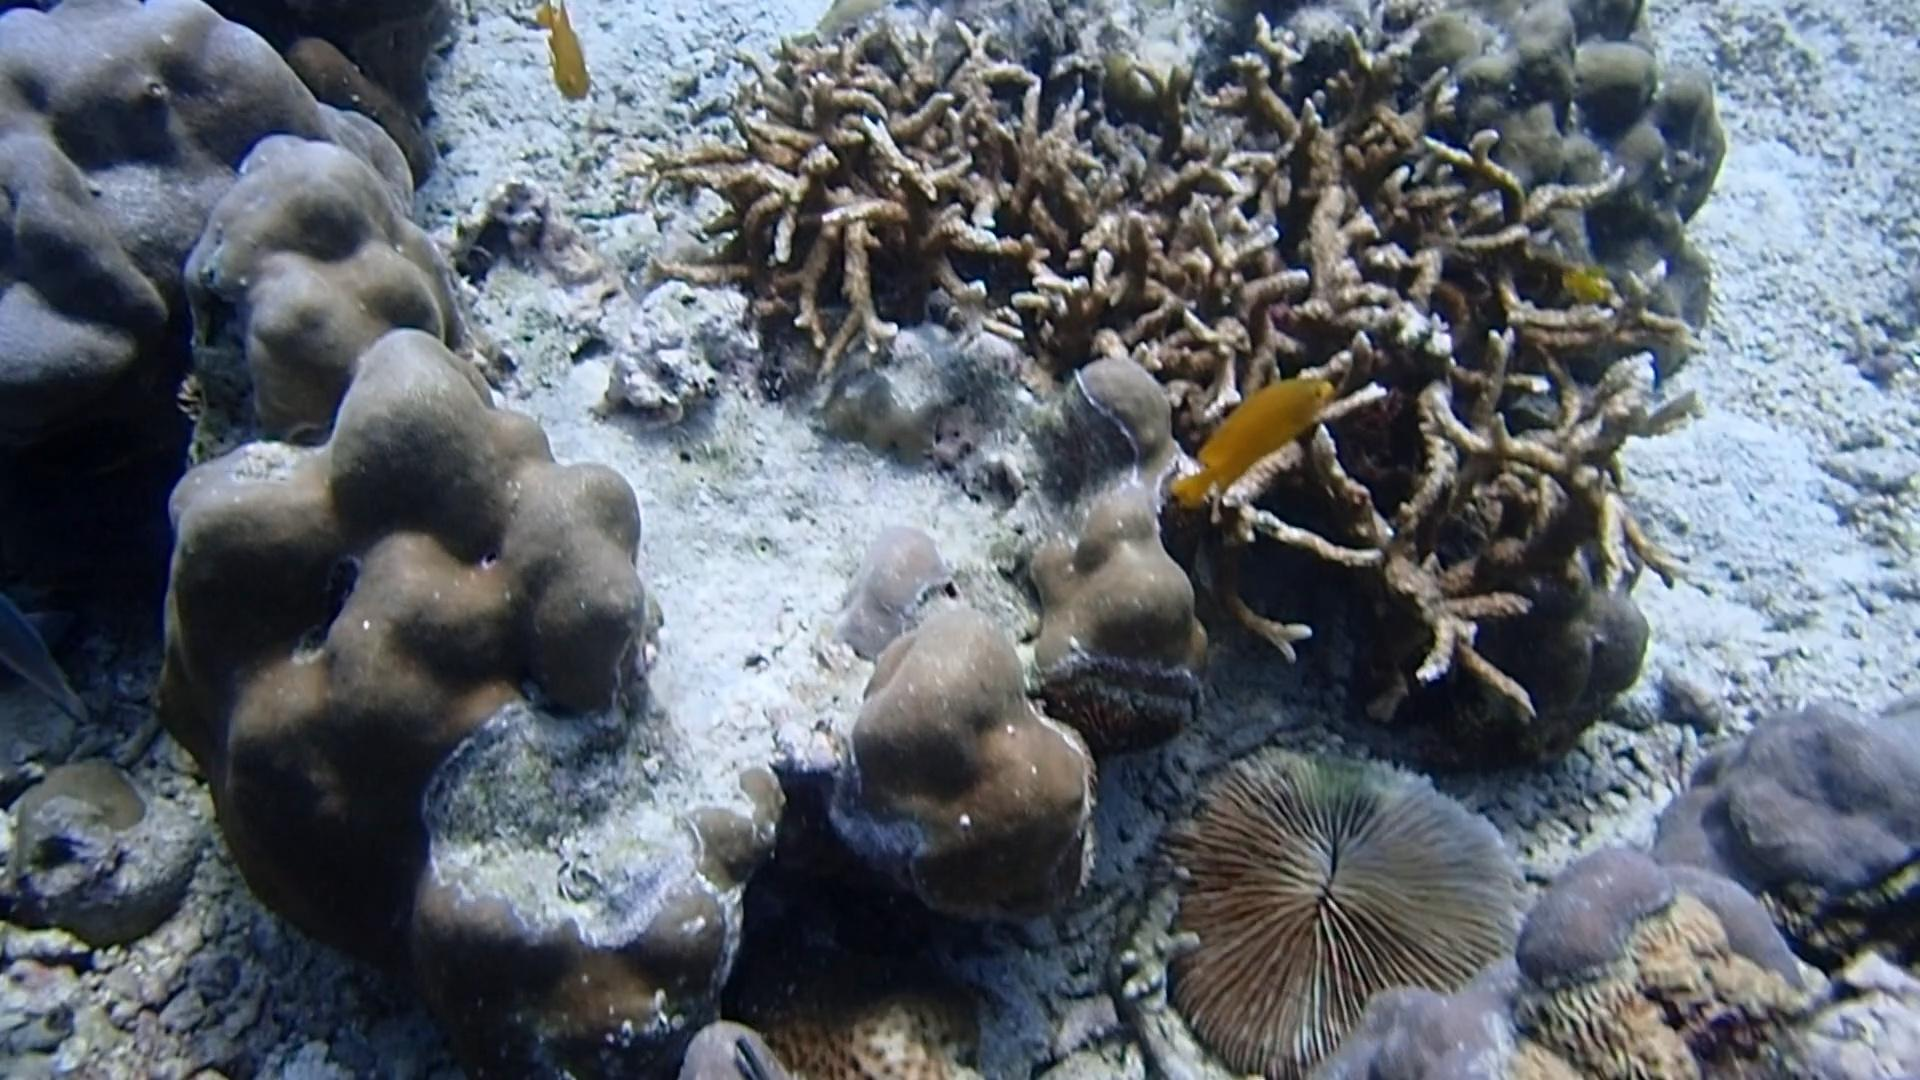Yellow Fish: (1156, 368, 1337, 514), (529, 0, 597, 107), (1557, 261, 1609, 314)
